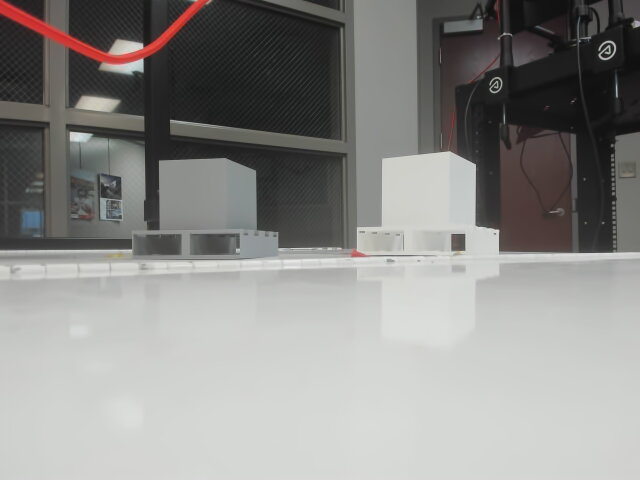grey pallet: (121, 151, 287, 264)
white pallet: (351, 151, 504, 264)
